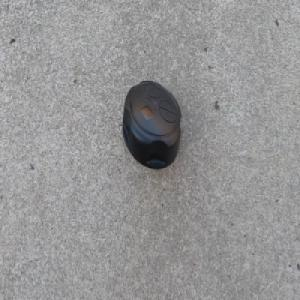FuelCap: (119, 77, 183, 173)
